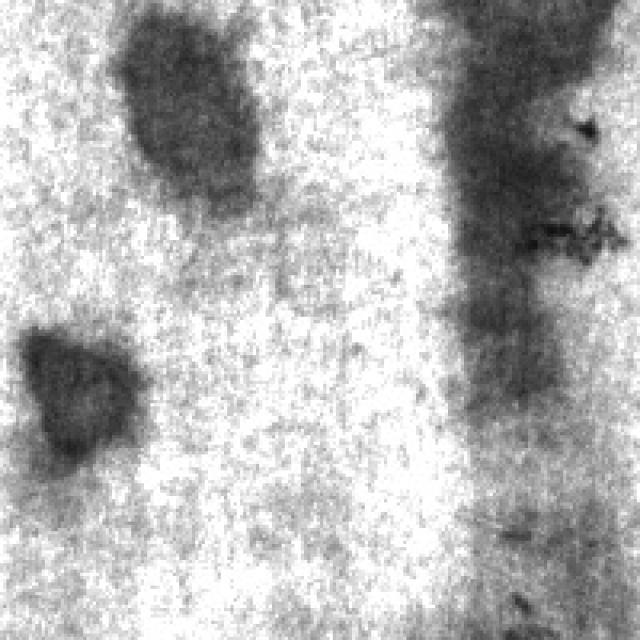patches: (438, 0, 618, 333), (106, 0, 266, 224), (10, 320, 156, 477), (448, 214, 560, 416)
